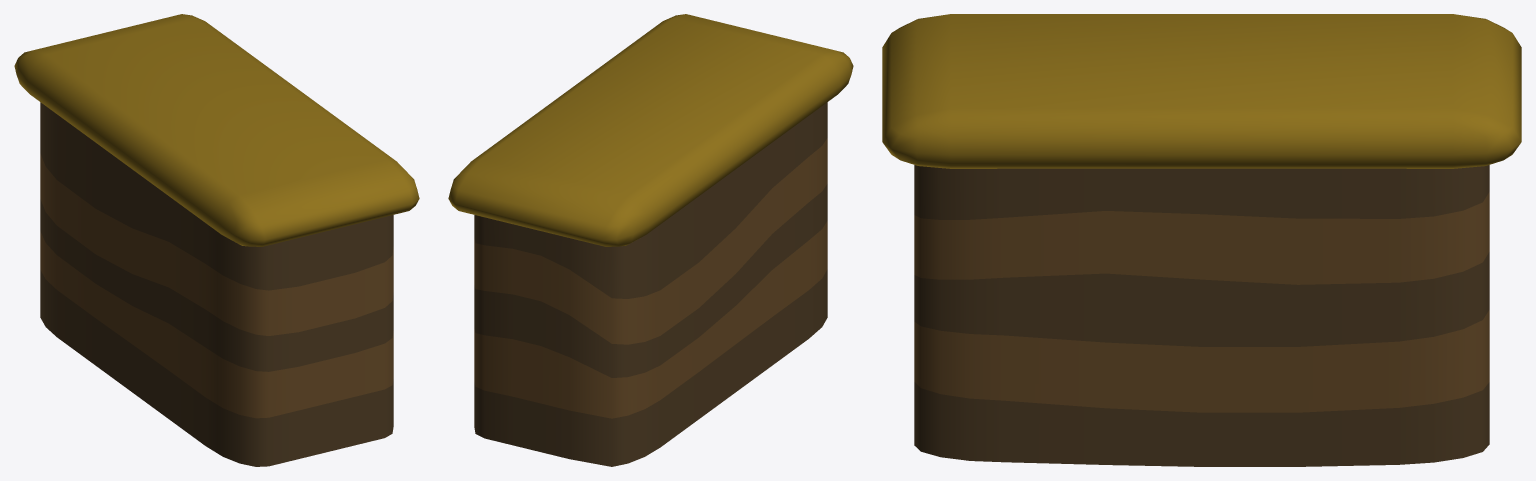
The model's file is Plateforme_rectangle_m.fbx.
3 renders of one model, left to right at view 1: azimuth 30°, elevation 25°; view 2: azimuth 150°, elevation 25°; view 3: azimuth 270°, elevation 25°, orthographic. The views are drawn at different scales.
Visible parts, largest first — view 1: Cube.003; view 2: Cube.003; view 3: Cube.003.
Boxes of the visible parts, <box> form: Cube.003: <box>14,14,419,466</box>; Cube.003: <box>448,14,853,466</box>; Cube.003: <box>882,14,1521,466</box>.
Bounding box in the file's own units: 499 × 681 × 1123.
